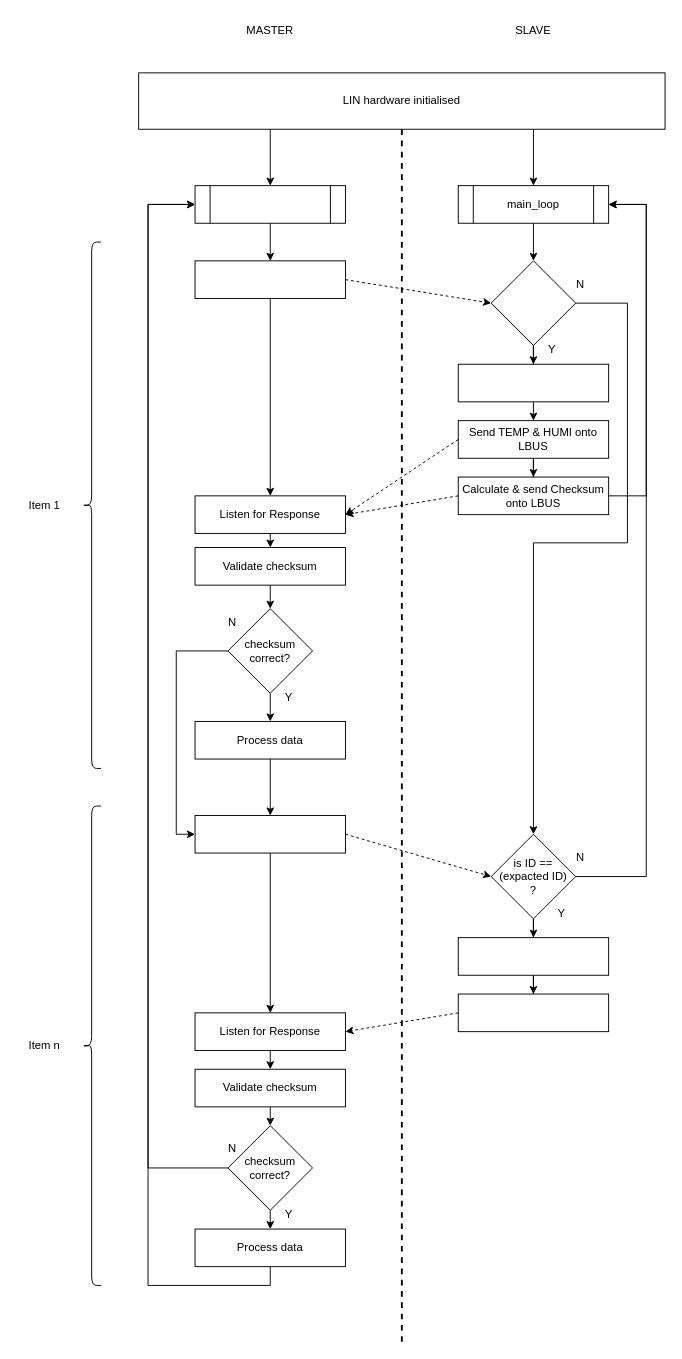
The diagram is 682 pixels wide and 1359 high, and some of its shapes have lost their labels. Each missing label, with the centre of its shape:
"is ID == 0x02?" belongs at [533,302].
"master_schedule" belongs at [269,204].
"Measure TEMP and HUMI" belongs at [533,382].
"Process response" belongs at [533,956].
"Send resposne data & checksum" belongs at [533,1012].
"Transmit message 0x(xx)" belongs at [269,834].
"Transmit message 0x02" belongs at [269,279].
